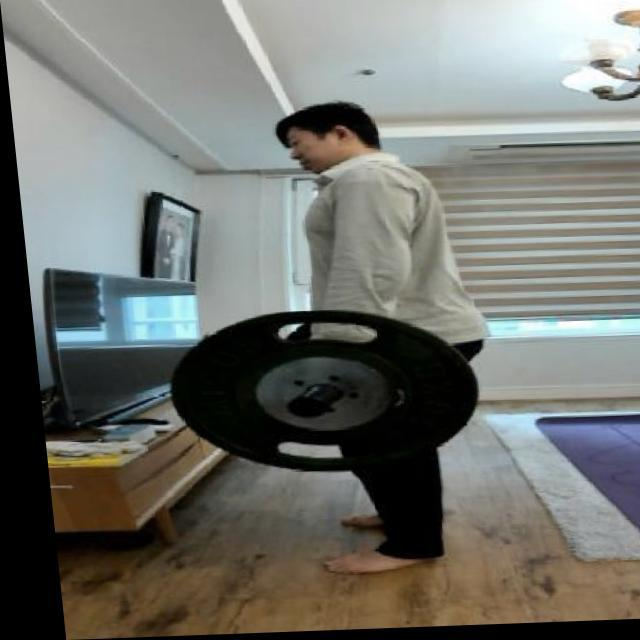barbell: (152, 302, 480, 486)
